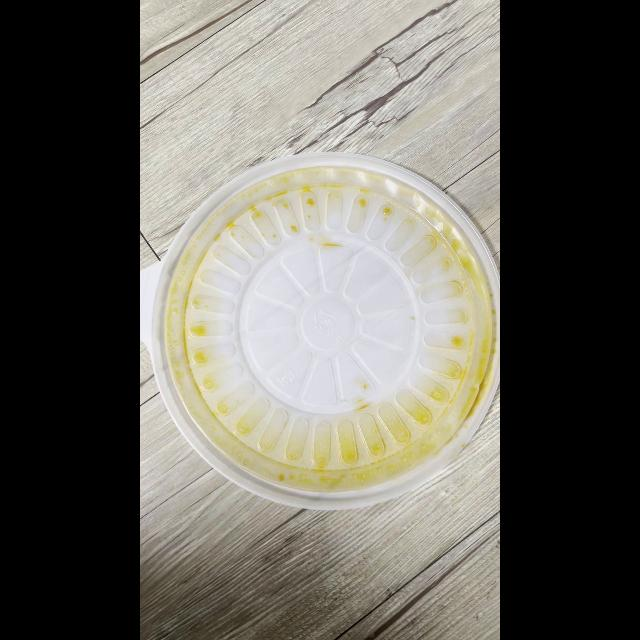dirty: (147, 153, 495, 501)
